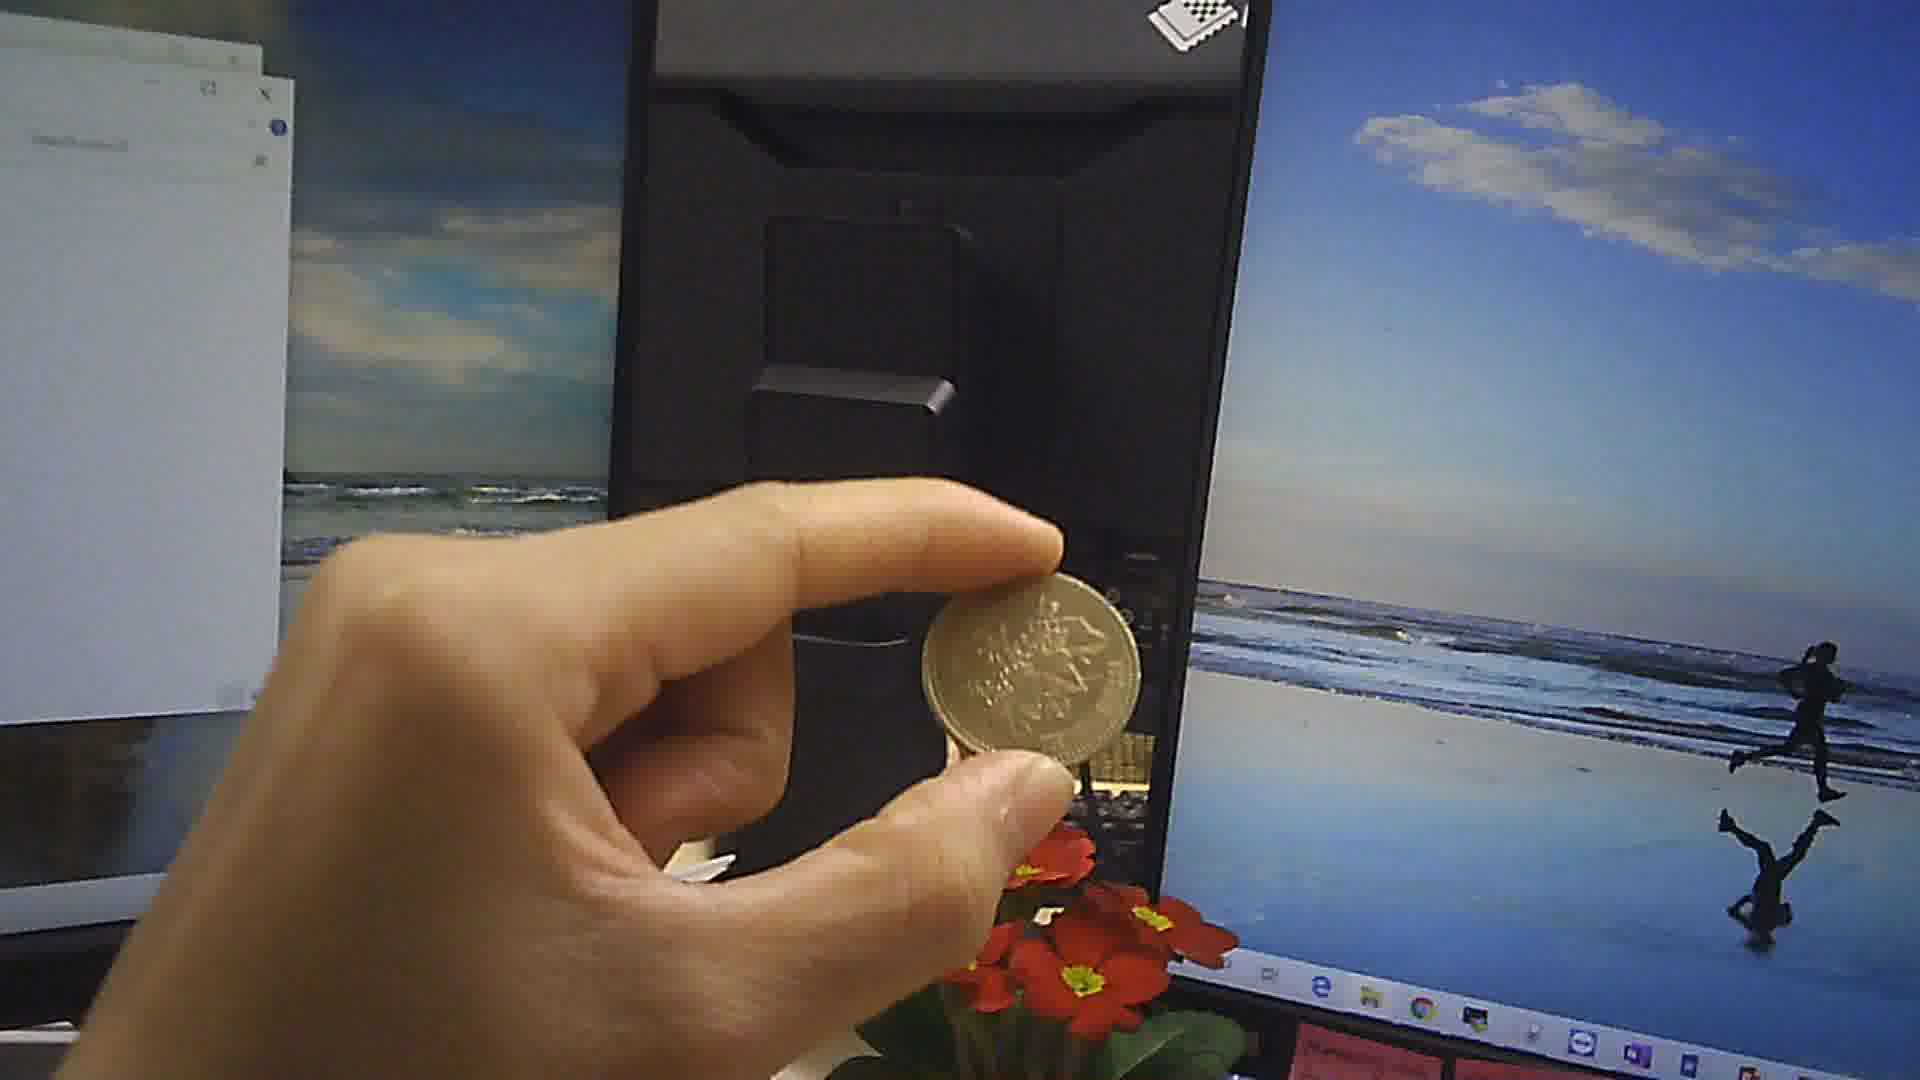500 Yen: (916, 547, 1151, 773)
